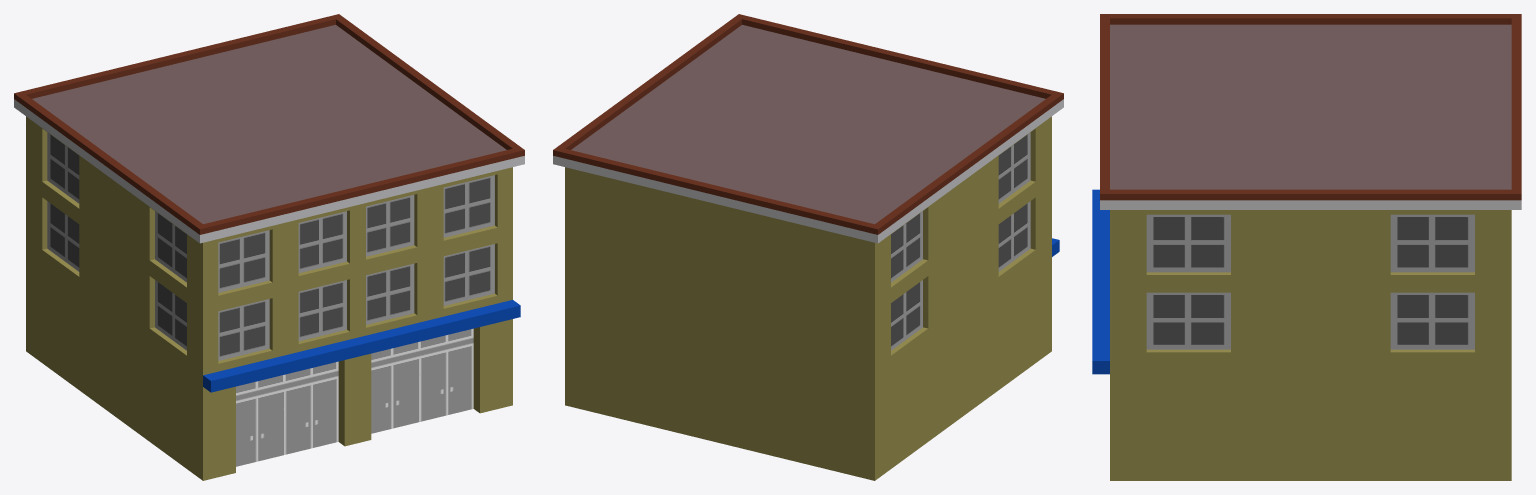
The model's file is building4a.FBX.
3 renders of one model, left to right at view 1: azimuth 30°, elevation 25°; view 2: azimuth 150°, elevation 25°; view 3: azimuth 270°, elevation 25°, orthographic. The views are drawn at different scales.
Visible parts, largest first — view 1: building4a; view 2: building4a; view 3: building4a.
Boxes of the visible parts, bbox=[...] form: building4a: bbox=[14, 14, 524, 480]; building4a: bbox=[553, 14, 1063, 480]; building4a: bbox=[1092, 14, 1521, 480].
Size of the model in its own units: 21.4 by 16.15 by 21.59.
